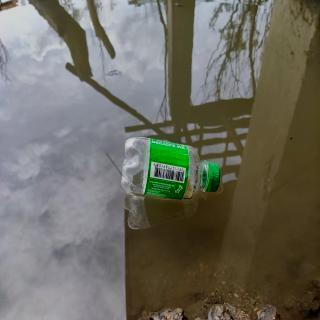bottle: (119, 133, 222, 204)
